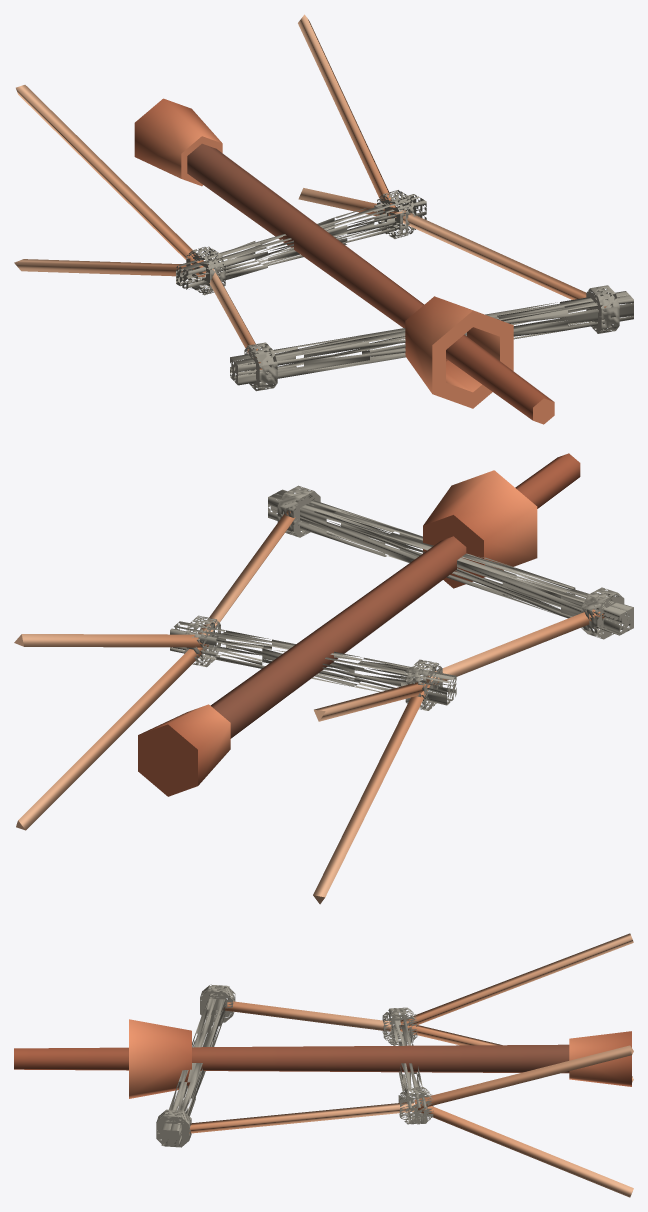
The model's file is SM_Wreck_Mast.obj.
The picture shows the model from 3 angles, top to bottom: view 1: azimuth 30°, elevation 25°; view 2: azimuth 150°, elevation 25°; view 3: azimuth 270°, elevation 25°; orthographic projection. The views are drawn at different scales.
Visible parts, largest first — view 1: SM_Wreck_Mast; view 2: SM_Wreck_Mast; view 3: SM_Wreck_Mast.
Boxes of the visible parts, left/top/right/bottom form: SM_Wreck_Mast: left=14, top=14, right=633, bottom=424; SM_Wreck_Mast: left=14, top=453, right=633, bottom=904; SM_Wreck_Mast: left=14, top=933, right=633, bottom=1197.
Bounding box in the file's own units: 1406 × 687 × 2529.
2 materials, 1 textured.
